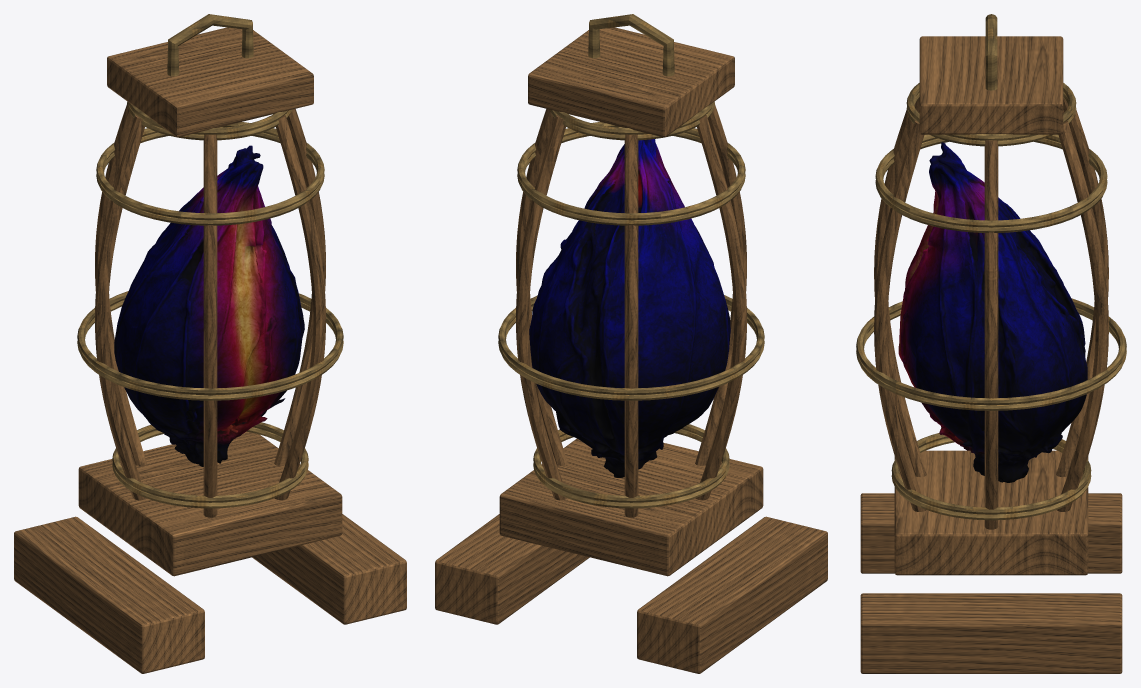
File: lantern_lamp.glb
3 renders of one model, left to right at view 1: azimuth 30°, elevation 25°; view 2: azimuth 150°, elevation 25°; view 3: azimuth 270°, elevation 25°, orthographic.
Visible parts, largest first — view 1: Housing, Heart; view 2: Housing, Heart; view 3: Housing, Heart.
Part boxes in pixels (<box>): Housing: <box>14,14,406,673</box>; Heart: <box>114,145,304,466</box>; Housing: <box>435,14,827,673</box>; Heart: <box>529,139,730,477</box>; Housing: <box>856,14,1126,673</box>; Heart: <box>898,142,1087,482</box>.
Size of the model in its own units: 0.5 by 1.04 by 0.434.
Materials: 4 (4 with a texture image).
